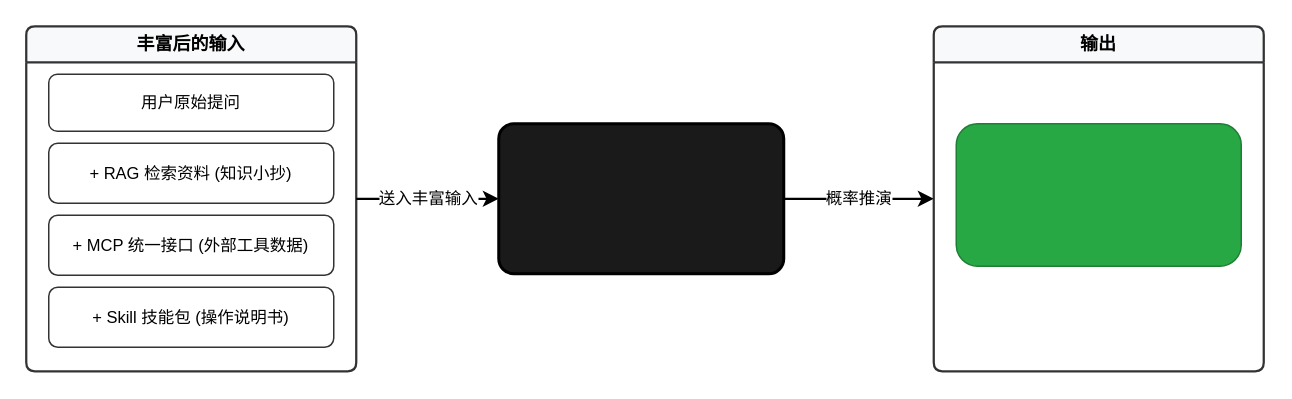
The diagram is 1292 pixels wide and 399 high, and some of its shapes have lost their labels. Each missing label, with the centre of its shape:
"大概率正确的内容 • 有事实依据 (幻觉少) • 格式严谨 / 动作标准" goes at (x=1098, y=194).
"大模型（LLM） 【 概率黑箱 】 （基于统计概率猜词）" goes at (x=640, y=198).
